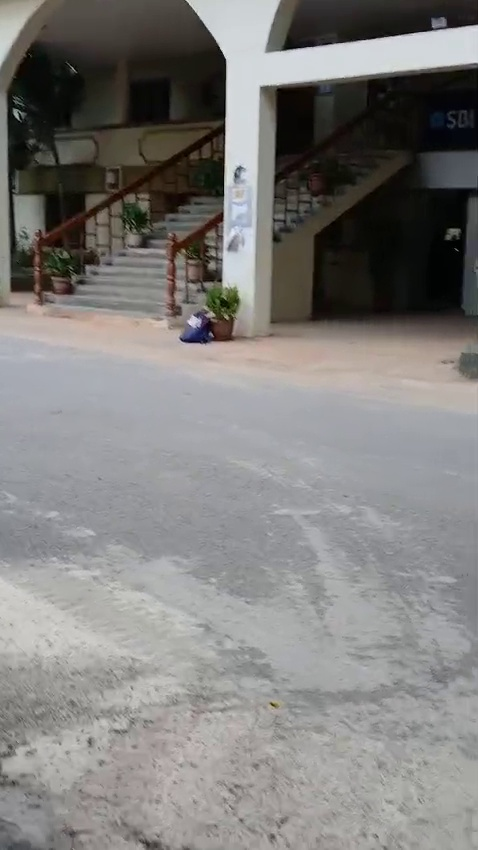bag: (177, 297, 216, 353)
